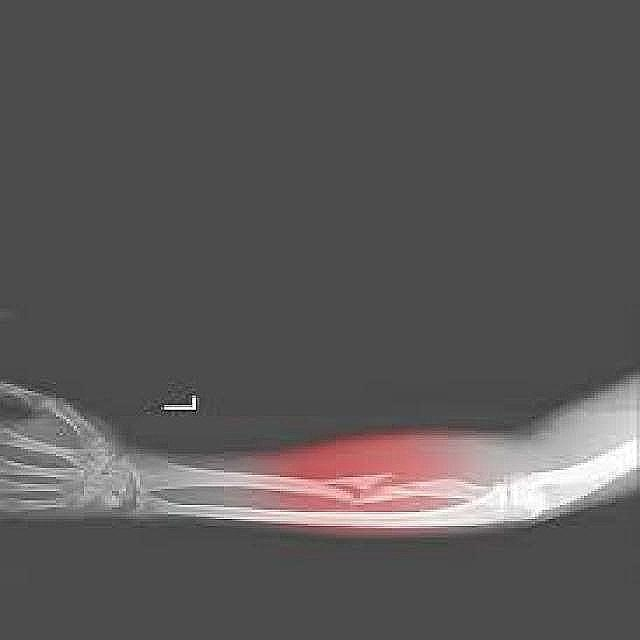bone: (276, 470, 439, 509)
